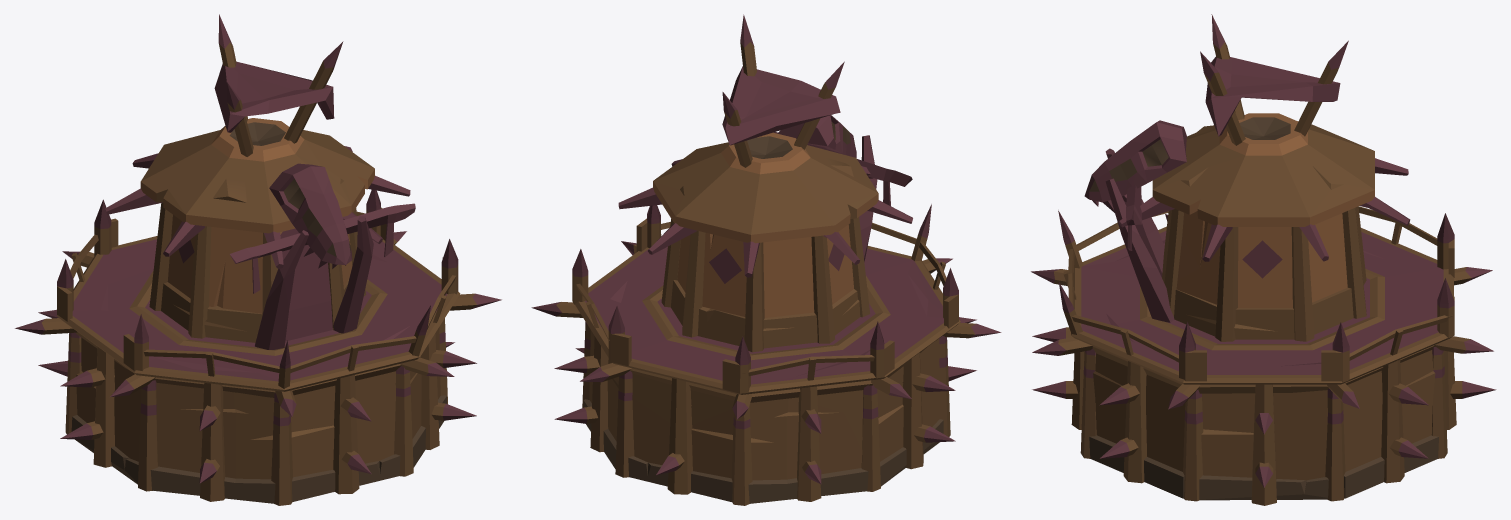
File: tribal-tower-tribal-tier3.glb
3 views of the same model, side by side, from view 1: azimuth 30°, elevation 25°; view 2: azimuth 150°, elevation 25°; view 3: azimuth 270°, elevation 25° (orthographic). The views are drawn at different scales.
Visible parts, largest first — view 1: SM_Tower_Tribal_Tier3; view 2: SM_Tower_Tribal_Tier3; view 3: SM_Tower_Tribal_Tier3.
Boxes of the visible parts, bbox=[...] form: SM_Tower_Tribal_Tier3: bbox=[15, 14, 501, 505]; SM_Tower_Tribal_Tier3: bbox=[531, 14, 1001, 505]; SM_Tower_Tribal_Tier3: bbox=[1031, 14, 1496, 505].
Bounding box in the file's own units: 12.14 × 11.54 × 12.18.
